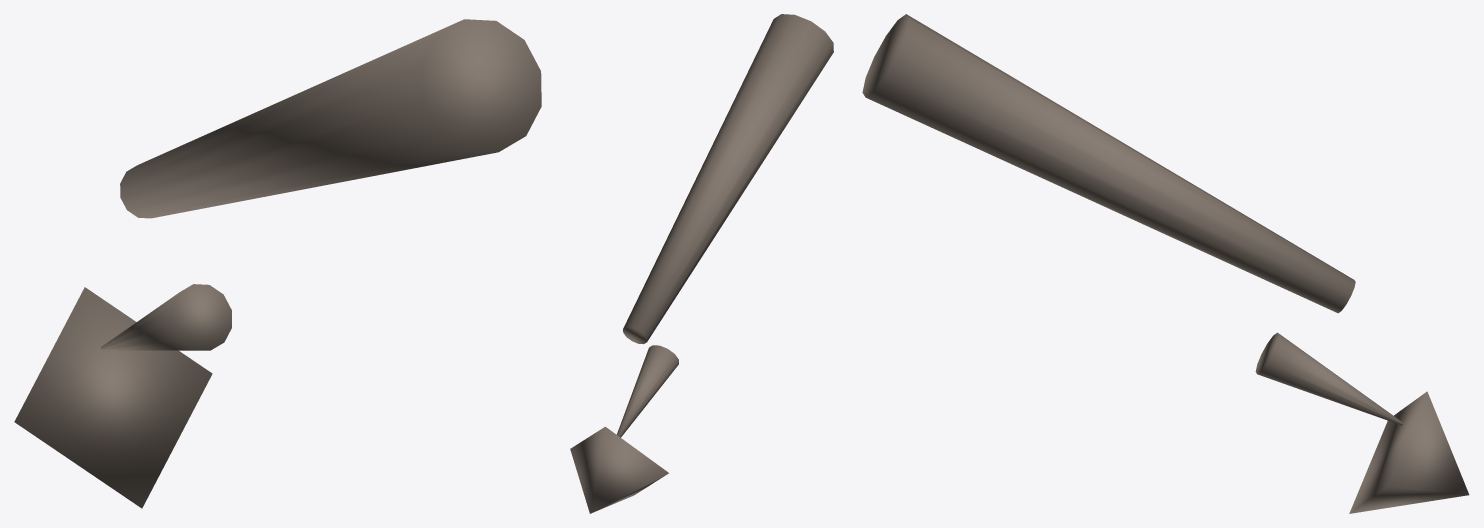
The model's file is tiefling.glb.
3 views of the same model, side by side, from view 1: azimuth 30°, elevation 25°; view 2: azimuth 150°, elevation 25°; view 3: azimuth 270°, elevation 25° (orthographic). The views are drawn at different scales.
Visible parts, largest first — view 1: TailTiefling; view 2: TailTiefling; view 3: TailTiefling.
Part boxes in pixels (left/top/right/bottom): TailTiefling: left=14, top=19, right=541, bottom=508; TailTiefling: left=570, top=14, right=833, bottom=513; TailTiefling: left=862, top=14, right=1469, bottom=513.
Bounding box in the file's own units: 0.1 × 0.3493 × 0.3882.
